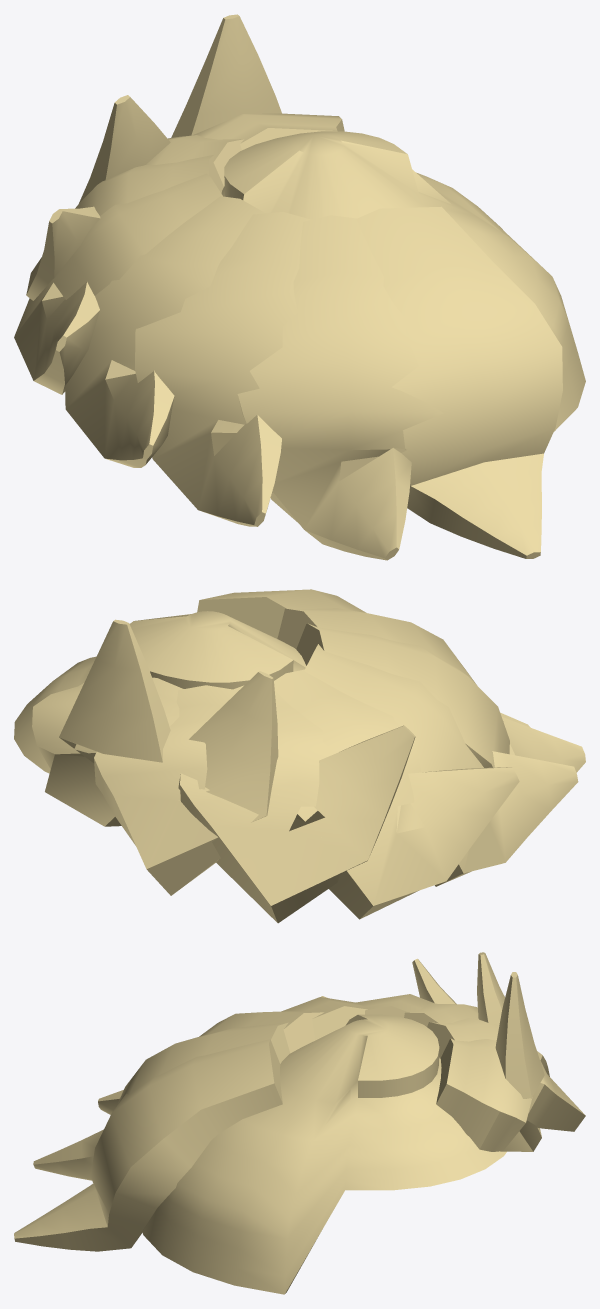
The model's file is hair_6.fbx.
3 views of the same model, one above another, from view 1: azimuth 30°, elevation 25°; view 2: azimuth 150°, elevation 25°; view 3: azimuth 270°, elevation 25° (orthographic). The views are drawn at different scales.
Parts seen in each view (by area): view 1: Hair; view 2: Hair; view 3: Hair.
Boxes of the visible parts, x1,y1,x2,y2 form: Hair: [14, 14, 585, 560]; Hair: [14, 589, 585, 923]; Hair: [14, 952, 585, 1294].
Size of the model in its own units: 0.2192 by 0.1359 by 0.2628.
